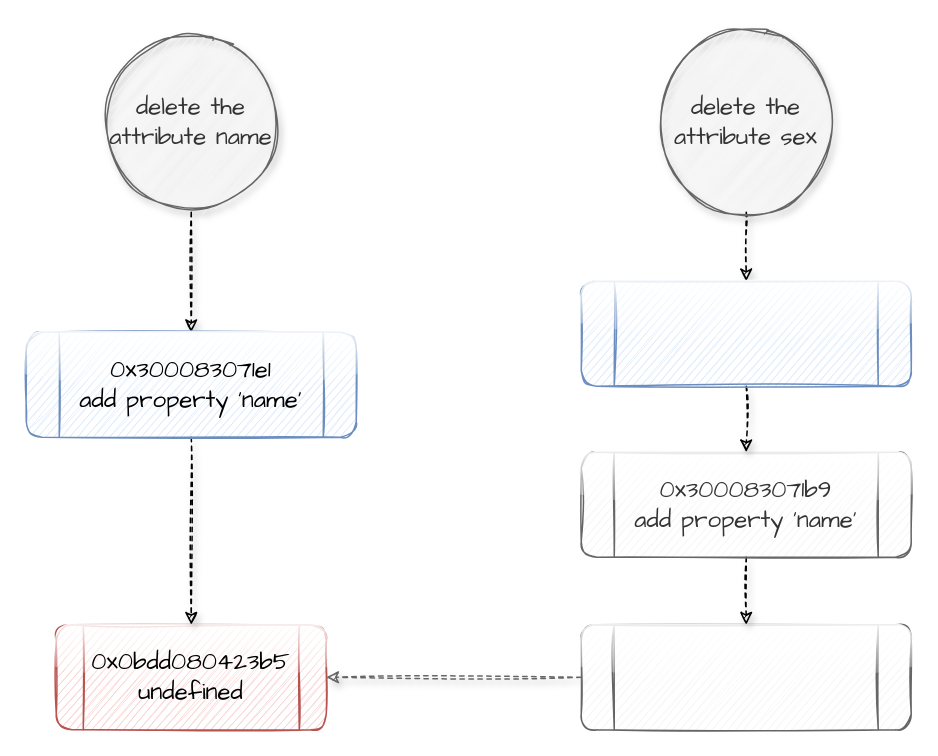
The diagram is 938 pixels wide and 756 high, and some of its shapes have lost their labels. The centre of each missing label's shape, as x and y in pixels:
0x300083071e1 add property 'age': point (745, 333)
0xbdd083045d1 empty object foo: point (745, 676)
